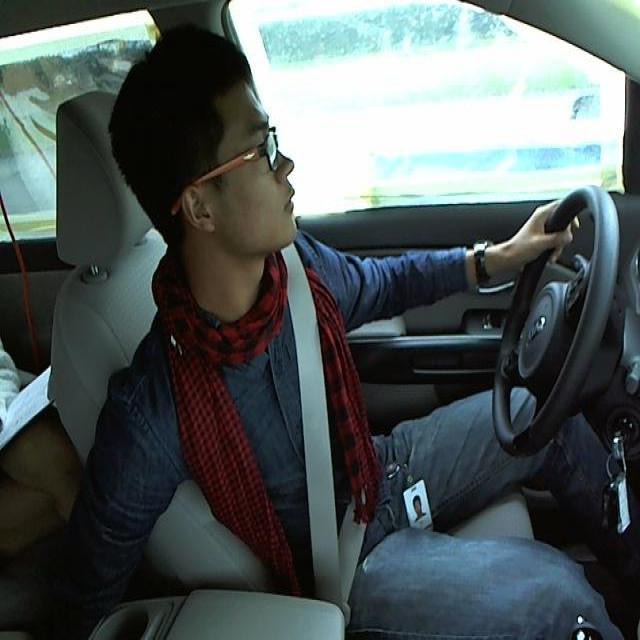seatbelt: (274, 296, 380, 595)
